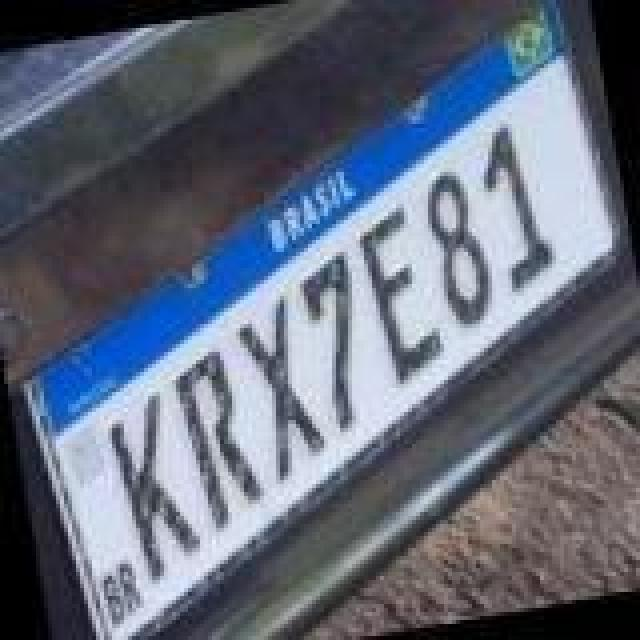1: (472, 120, 560, 296)
7: (294, 246, 378, 434)
8: (414, 164, 498, 332)
E: (352, 200, 448, 392)
K: (100, 386, 204, 590)
R: (164, 344, 268, 536)
X: (228, 294, 332, 490)
